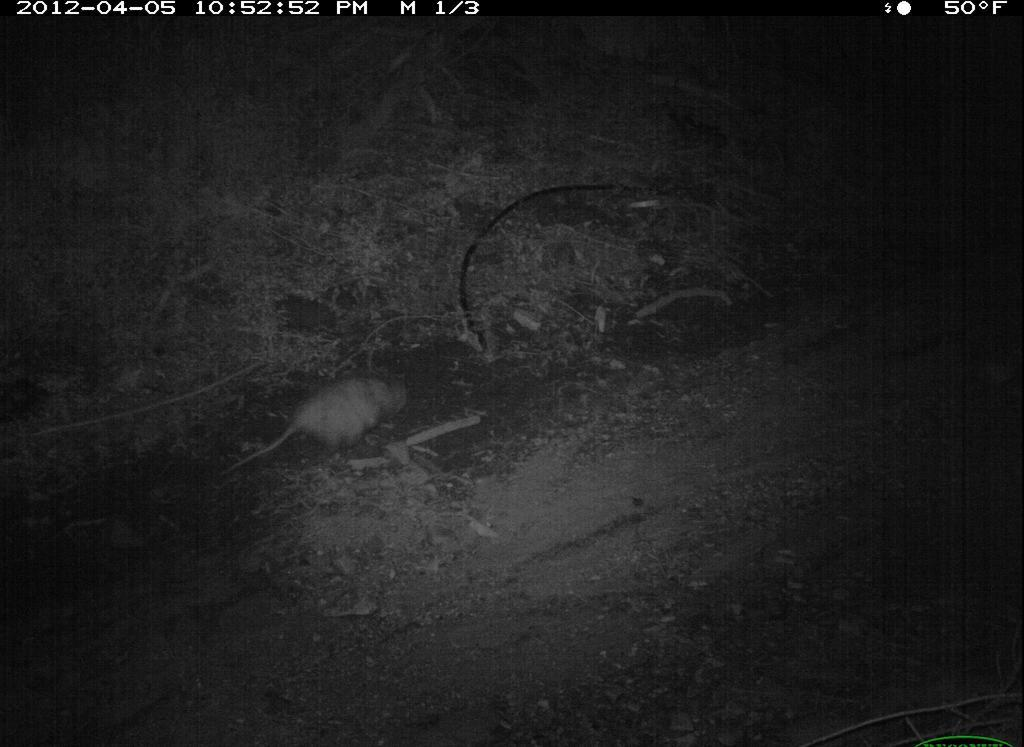opossum: (208, 363, 427, 502)
